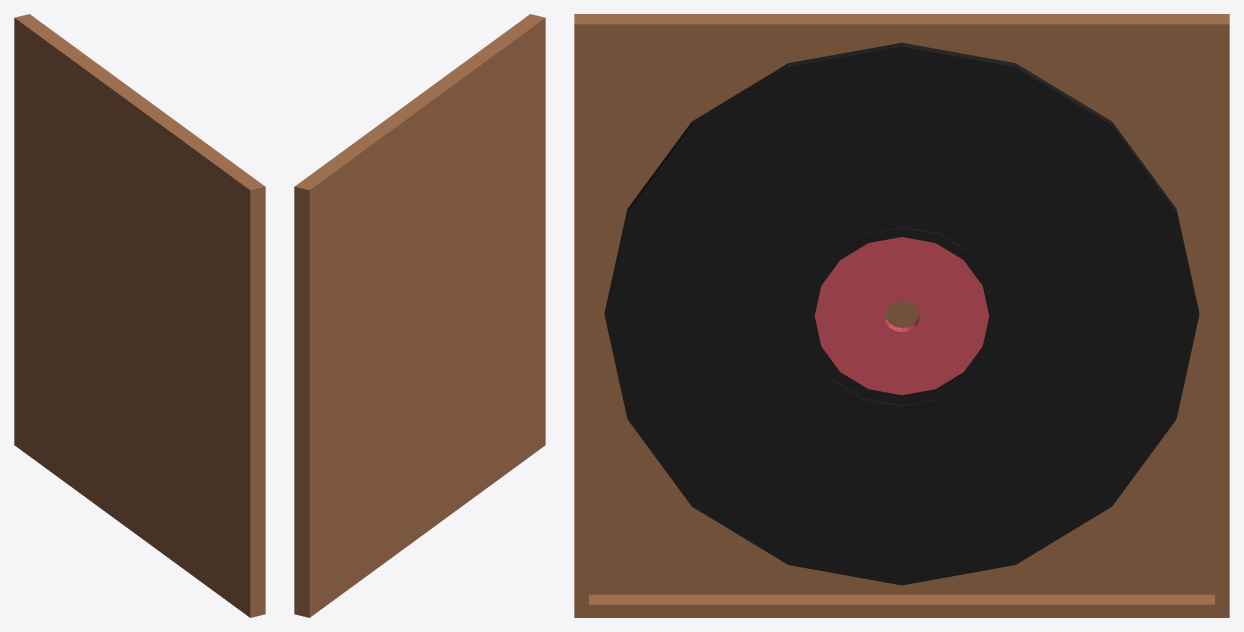
File: record-red.glb
3 views of the same model, side by side, from view 1: azimuth 30°, elevation 25°; view 2: azimuth 150°, elevation 25°; view 3: azimuth 270°, elevation 25° (orthographic). The views are drawn at different scales.
Parts seen in each view (by area): view 1: case; view 2: case; view 3: disc, case.
Boxes of the visible parts, bbox=[...] form: case: bbox=[14, 14, 265, 617]; case: bbox=[294, 14, 545, 617]; disc: bbox=[604, 42, 1199, 585]; case: bbox=[574, 14, 1229, 617].
Size of the model in its own units: 0.1489 by 4.01 by 4.01.
